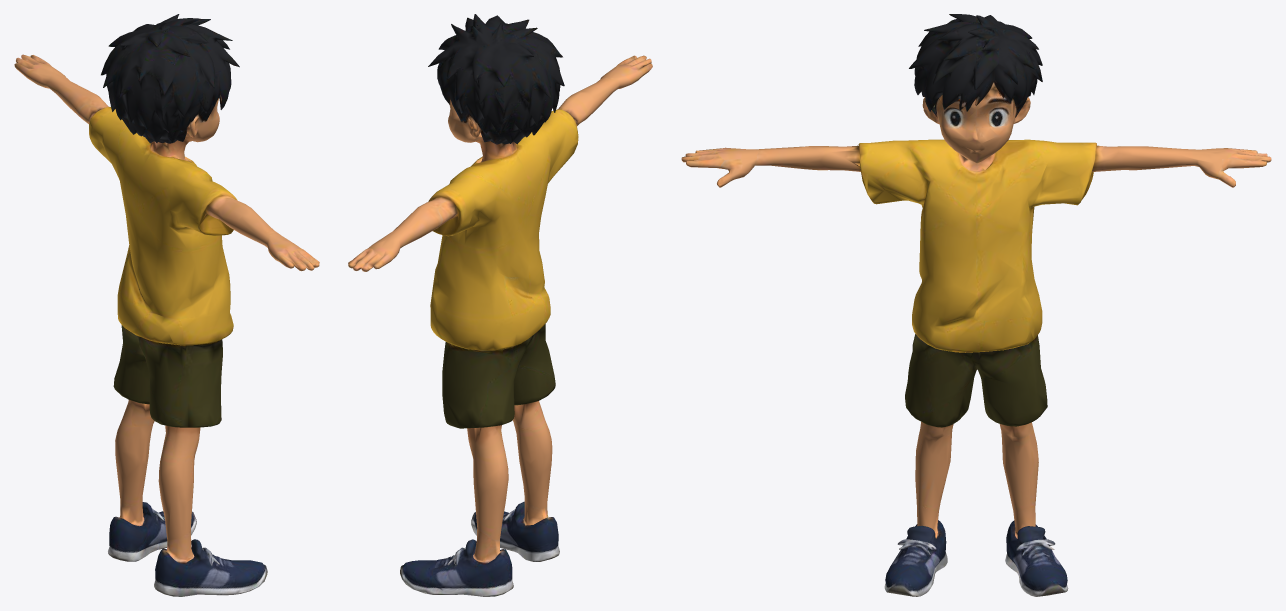
Rendered from kid.glb.
3 renders of one model, left to right at view 1: azimuth 30°, elevation 25°; view 2: azimuth 150°, elevation 25°; view 3: azimuth 270°, elevation 25°, orthographic.
Visible parts, largest first — view 1: tripo_node_63caff4b-aece-4129-b24b-31ca118ff5dc; view 2: tripo_node_63caff4b-aece-4129-b24b-31ca118ff5dc; view 3: tripo_node_63caff4b-aece-4129-b24b-31ca118ff5dc.
Boxes of the visible parts, x1,y1,x2,y2 form: tripo_node_63caff4b-aece-4129-b24b-31ca118ff5dc: [14, 14, 319, 596]; tripo_node_63caff4b-aece-4129-b24b-31ca118ff5dc: [348, 14, 652, 596]; tripo_node_63caff4b-aece-4129-b24b-31ca118ff5dc: [681, 14, 1271, 596].
Size of the model in its own units: 0.2299 by 0.9996 by 0.9586.
Materials: 1 (1 with a texture image).
